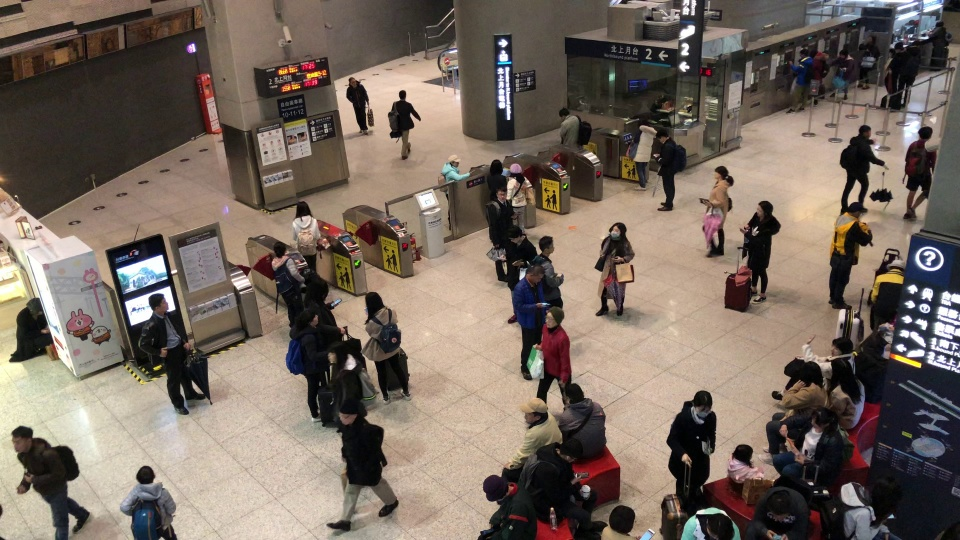person_head: (871, 474, 897, 512), (608, 504, 635, 535), (482, 473, 509, 502), (705, 513, 733, 540), (519, 396, 548, 422), (768, 490, 791, 522), (11, 424, 33, 455), (339, 393, 360, 425), (800, 360, 823, 387), (831, 358, 853, 386), (692, 388, 713, 417), (560, 437, 583, 463), (828, 335, 852, 358), (147, 292, 170, 315), (327, 340, 348, 365), (365, 290, 384, 317), (811, 406, 832, 429), (310, 278, 329, 302), (546, 305, 565, 329), (733, 443, 754, 463), (135, 464, 156, 483), (847, 201, 868, 219), (505, 224, 524, 243), (565, 382, 584, 401), (538, 234, 555, 255), (527, 264, 545, 283), (25, 298, 43, 316), (301, 308, 319, 326), (295, 200, 312, 219), (756, 199, 773, 217), (608, 222, 627, 238), (713, 163, 729, 180), (918, 124, 934, 140), (489, 158, 503, 175), (272, 242, 286, 258), (509, 161, 523, 177), (888, 258, 905, 270), (858, 124, 872, 138), (448, 153, 460, 168), (495, 186, 507, 200), (656, 129, 668, 143), (893, 41, 905, 54), (558, 107, 570, 119), (398, 87, 408, 101), (637, 117, 649, 128), (798, 47, 809, 59), (867, 34, 879, 45), (839, 49, 848, 60), (934, 19, 944, 28), (811, 47, 819, 58), (349, 76, 357, 86), (911, 40, 919, 46)
person_vbox: (323, 392, 400, 533), (10, 423, 91, 540), (519, 438, 608, 540), (138, 292, 205, 415), (756, 361, 828, 466), (771, 406, 855, 487), (359, 290, 412, 404), (664, 388, 718, 493), (770, 336, 856, 401), (499, 396, 563, 483), (820, 473, 902, 539), (284, 307, 327, 425), (828, 201, 873, 310), (742, 474, 813, 540), (839, 124, 887, 216), (740, 199, 781, 306), (119, 464, 176, 540), (531, 305, 573, 405), (513, 264, 549, 380), (326, 339, 375, 422), (594, 221, 636, 317), (476, 474, 537, 540), (558, 382, 608, 459), (901, 125, 938, 221), (503, 224, 538, 325), (484, 185, 519, 283), (699, 165, 734, 259), (8, 297, 52, 364), (437, 152, 473, 232), (827, 357, 866, 430), (271, 242, 304, 328), (531, 234, 566, 312), (655, 128, 688, 210), (868, 258, 905, 331), (302, 278, 345, 340), (387, 87, 421, 160), (628, 116, 658, 192), (291, 200, 322, 273), (506, 162, 536, 232), (784, 47, 814, 116), (680, 507, 741, 539), (727, 443, 764, 492), (600, 504, 646, 539), (346, 75, 371, 138), (558, 107, 592, 152), (855, 32, 880, 91), (828, 48, 855, 102), (810, 47, 830, 109), (903, 39, 920, 110), (883, 41, 905, 93), (486, 158, 505, 200), (927, 19, 952, 47)
